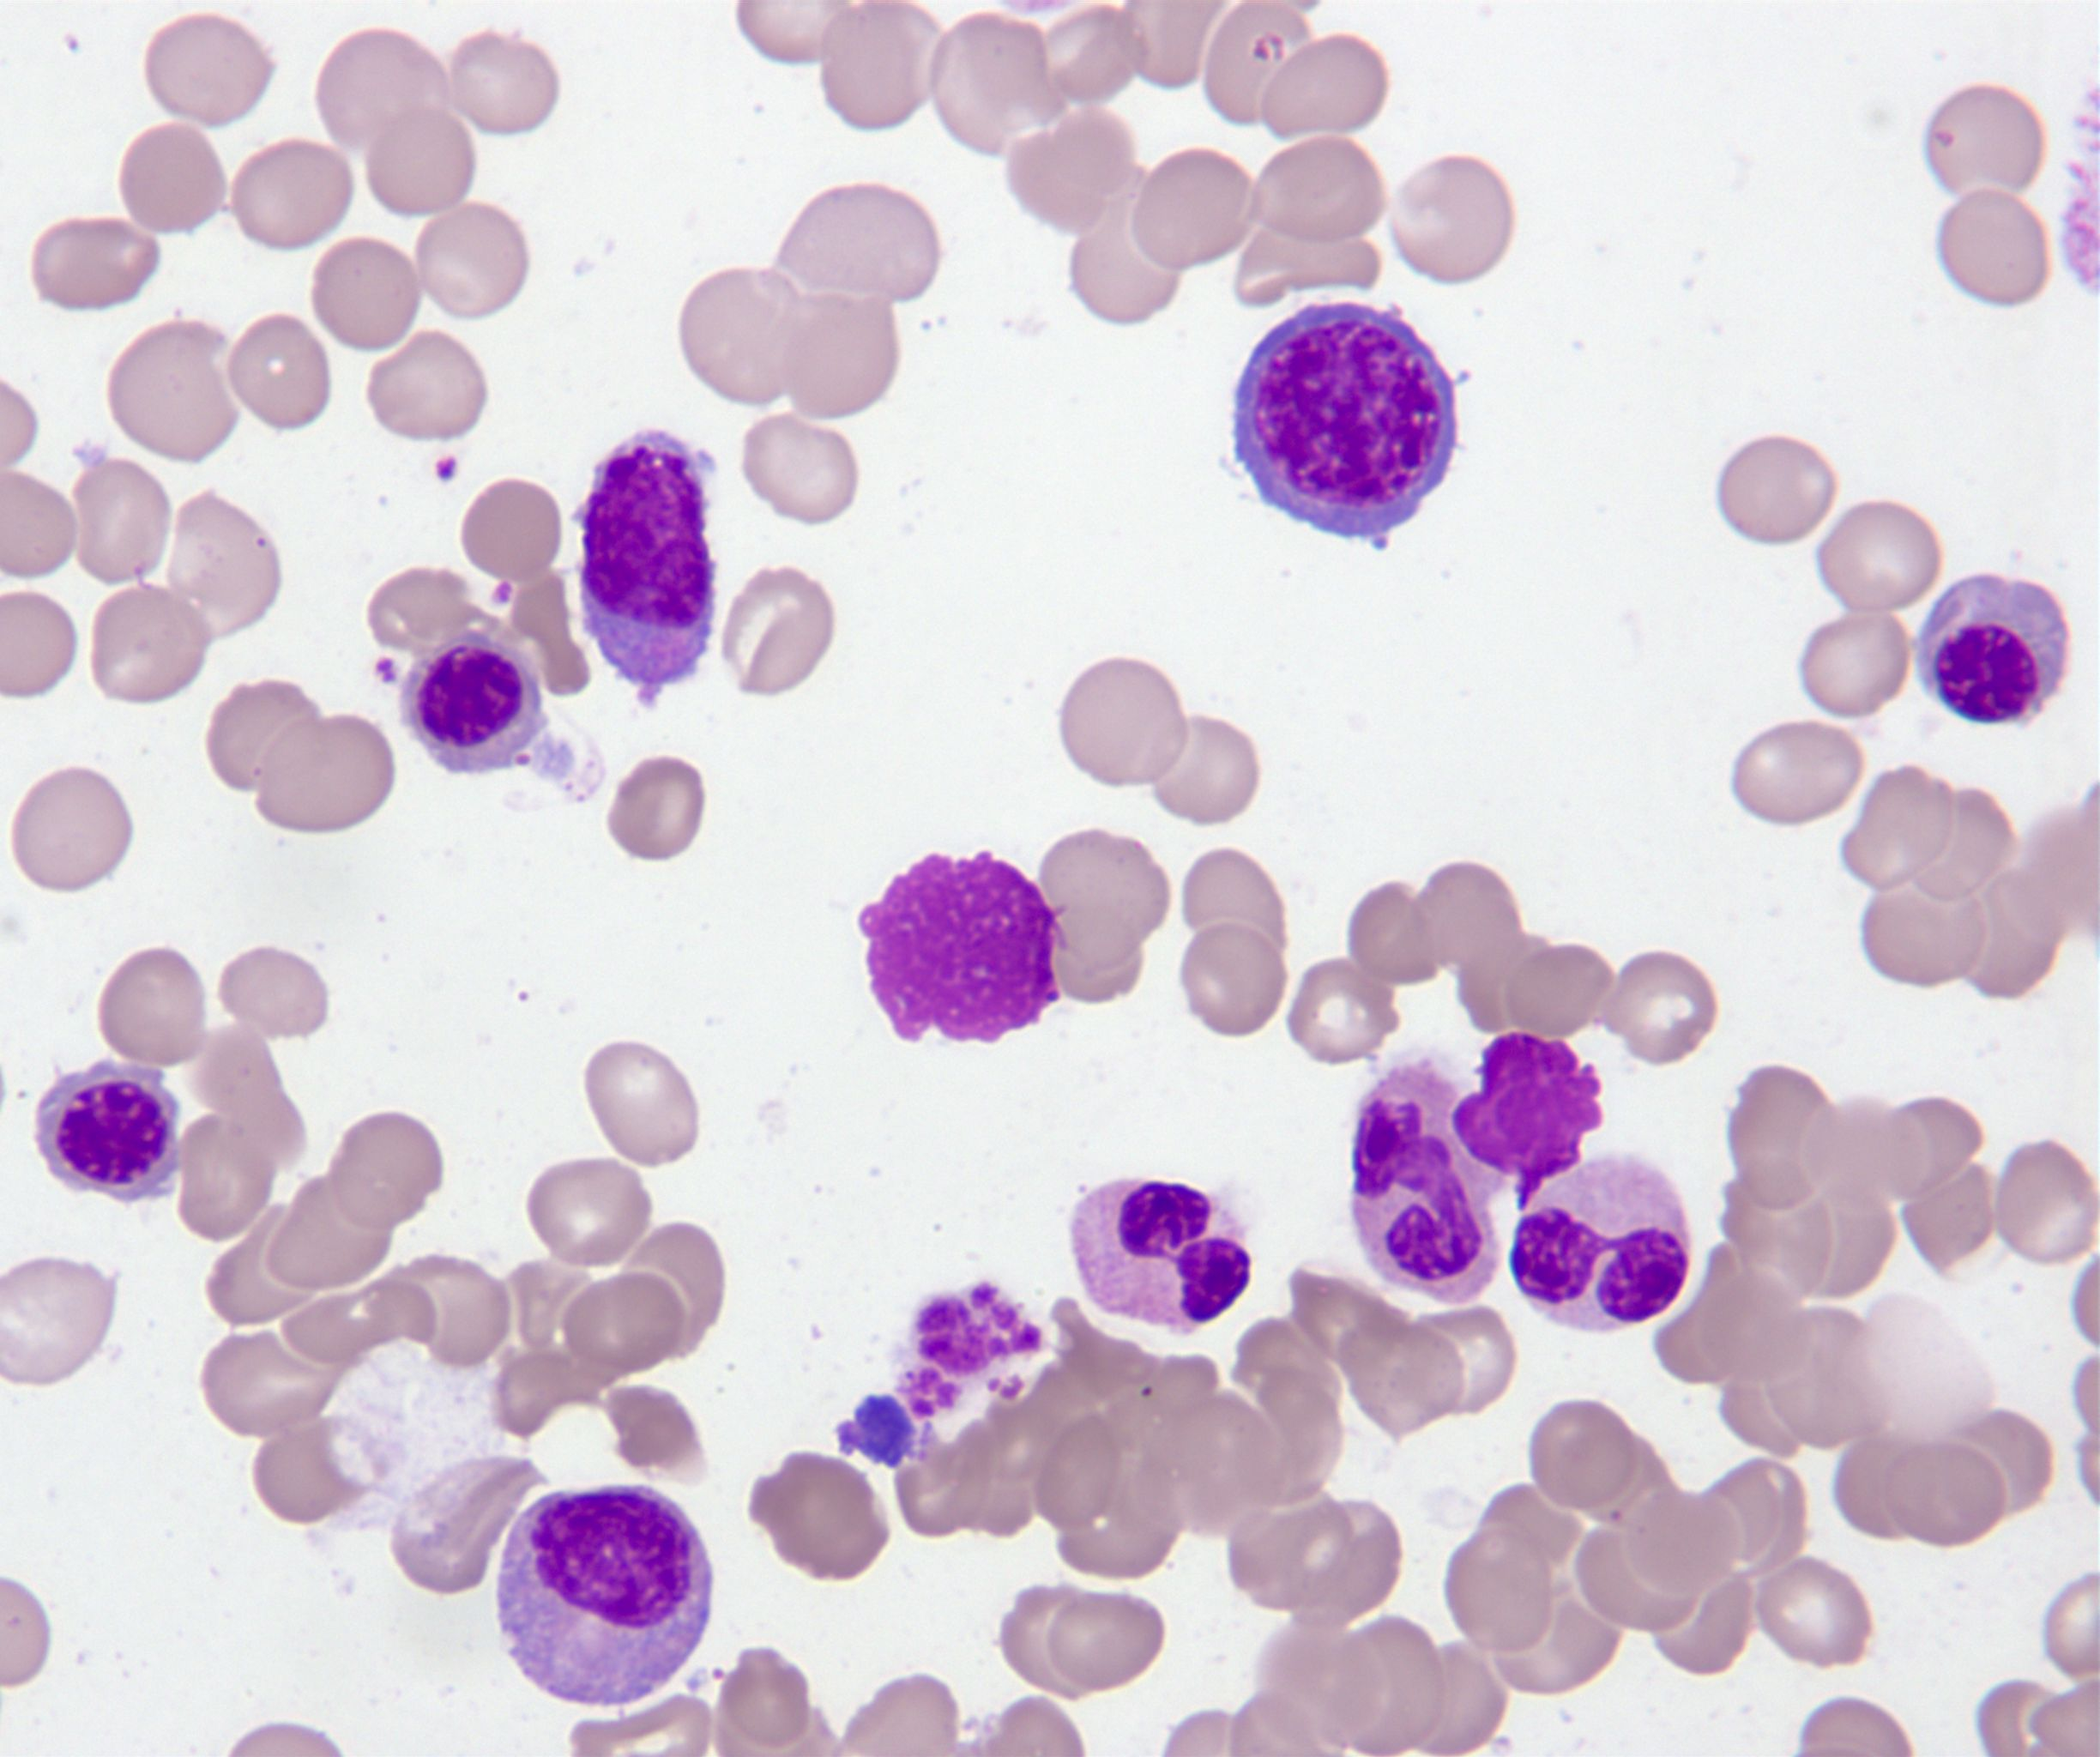22: (1235, 305, 1455, 536)
23: (1917, 574, 2069, 724), (401, 630, 548, 773), (35, 1059, 178, 1204)
3: (499, 1485, 713, 1705)
42: (579, 429, 715, 708)
5: (1353, 1056, 1503, 1305)
6: (1510, 1155, 1688, 1330), (1071, 1179, 1251, 1333)
x: (860, 851, 1066, 1043), (1453, 1033, 1603, 1209)
